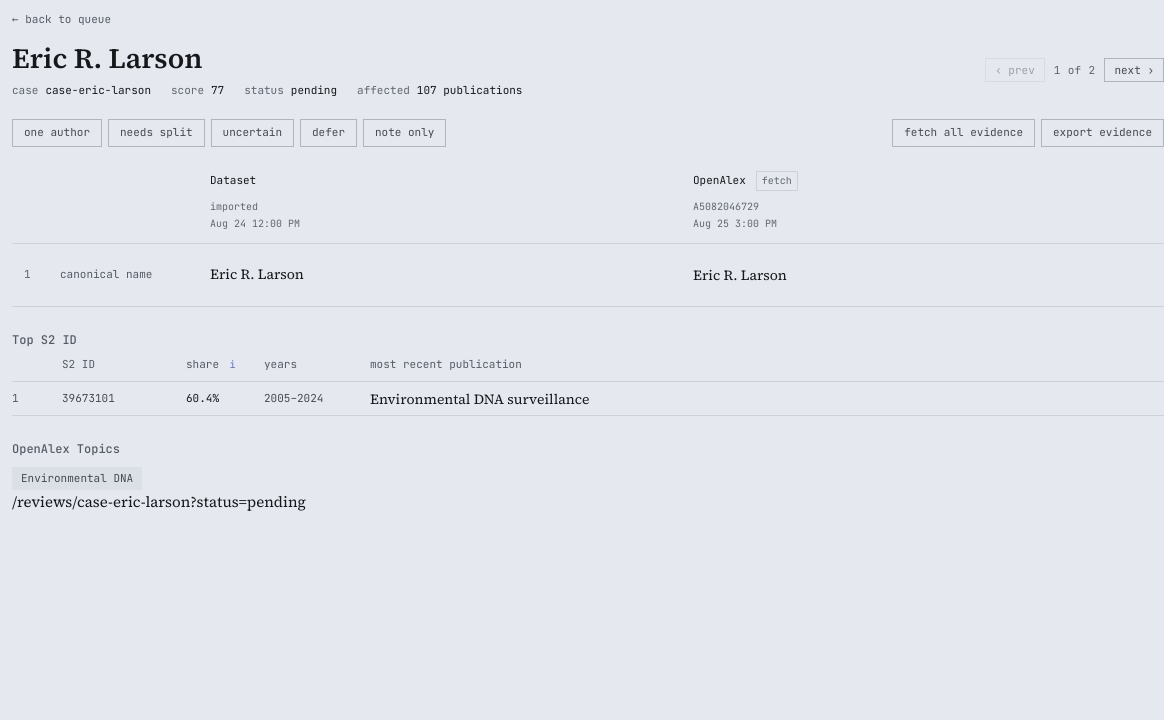
Test: does not let a late evidence reload replace the next case
Expected: the heading "Eric R. Larson" is shown, [12,39,202,77]
Click the button "fetch all evidence".
click(964, 133)  # box [892,119,1035,147]
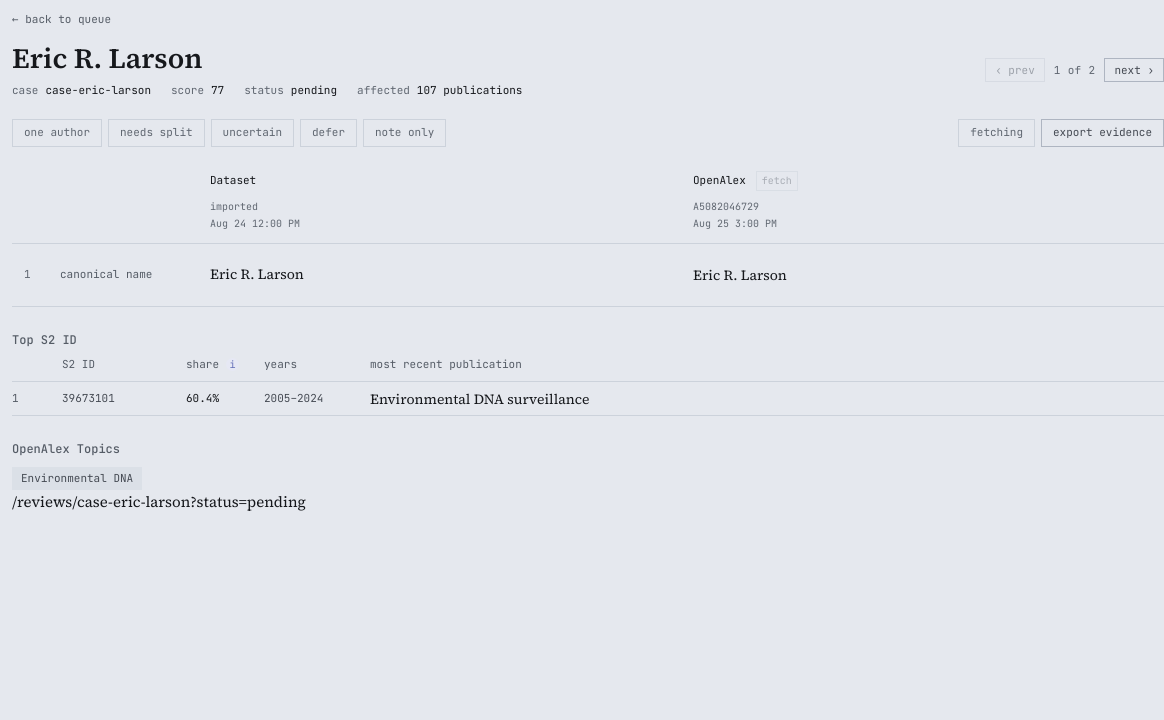
Click the link with aria-label "next case, Boxuan Zhao".
click(1134, 70)  # box [1104,58,1163,82]
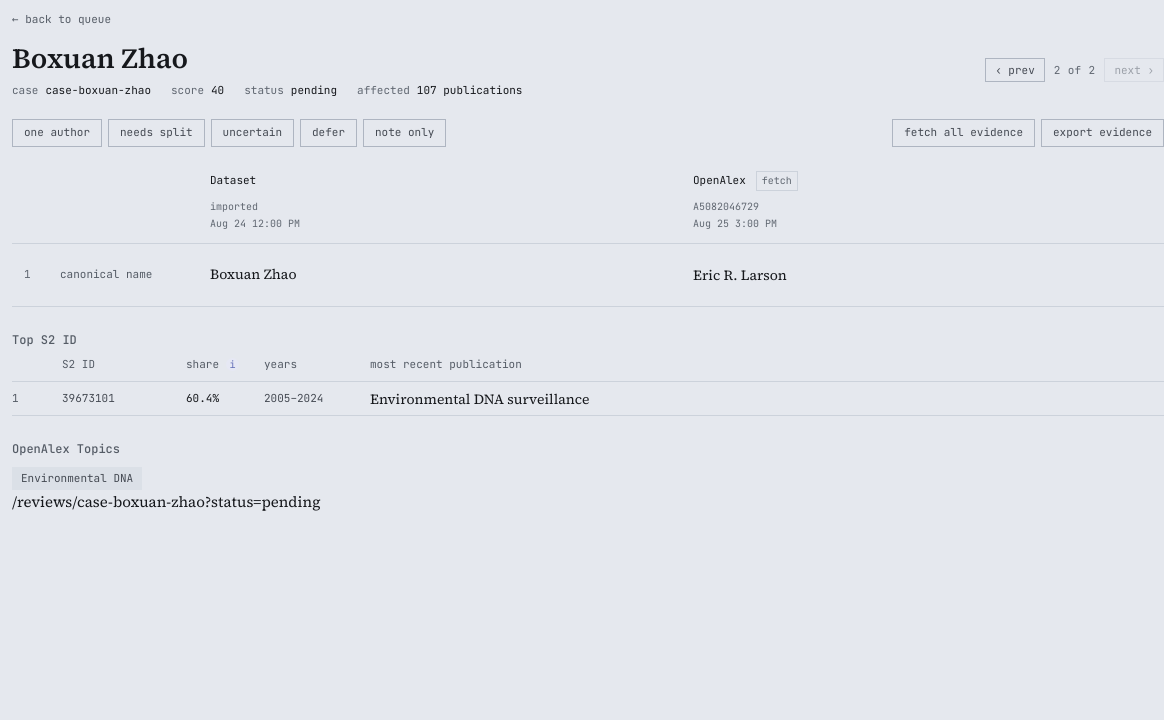
Expected: the heading "Boxuan Zhao" is shown, [12,39,188,77]
